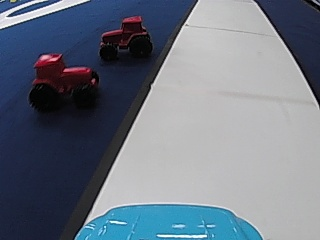tractor: (26, 51, 100, 111), (98, 14, 155, 60)
